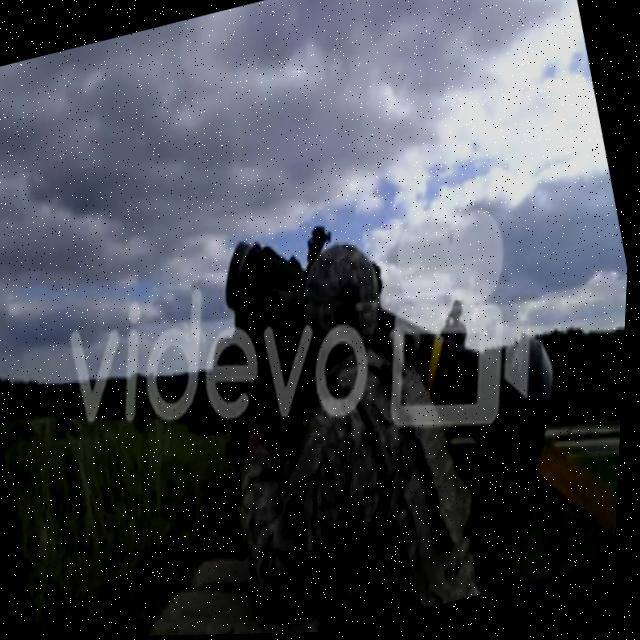rocket: (161, 164, 611, 567)
